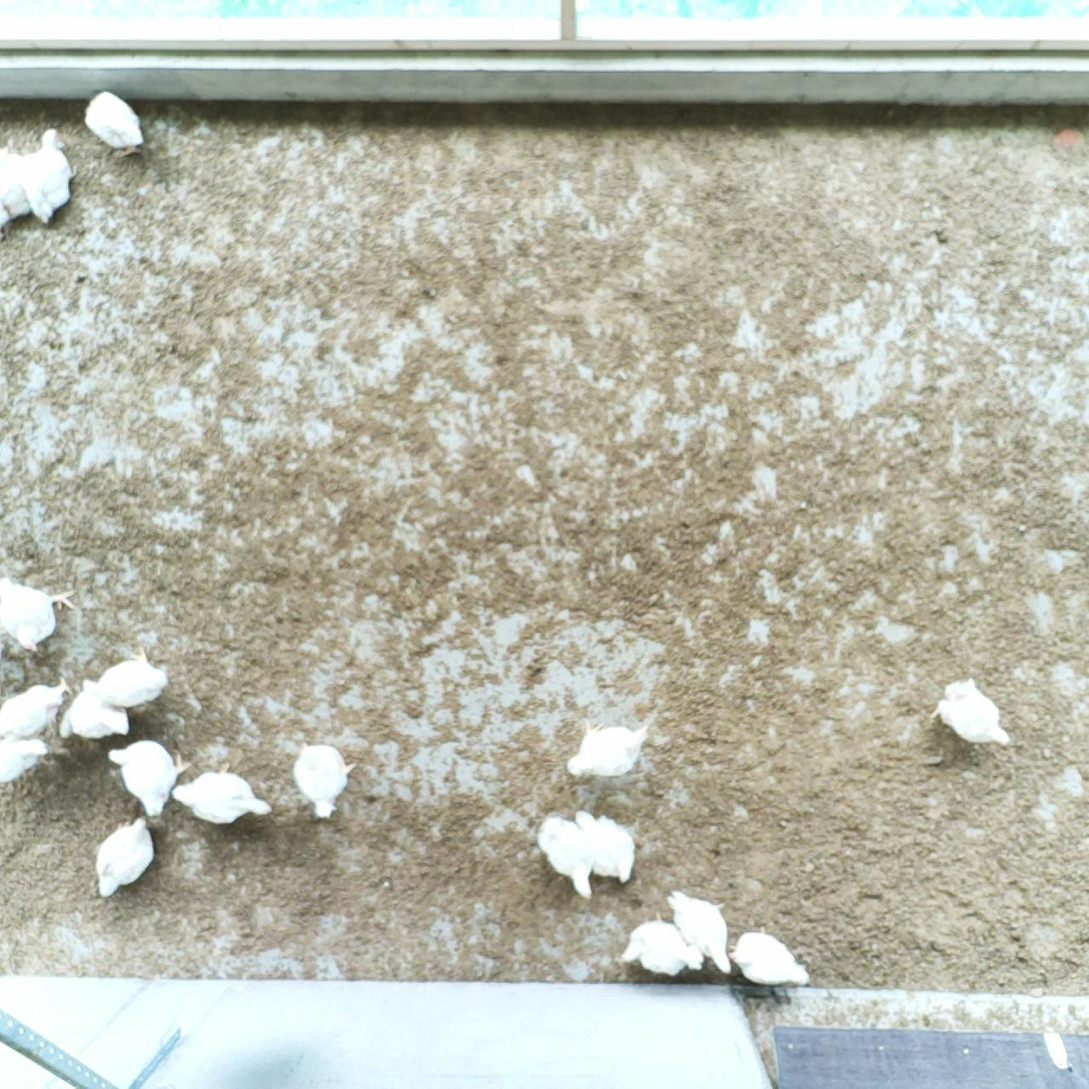chicken: (106, 737, 194, 822), (168, 758, 274, 828), (0, 572, 78, 658), (661, 888, 735, 975), (18, 126, 77, 227), (726, 921, 814, 986), (933, 678, 1013, 749), (617, 912, 708, 974), (293, 740, 360, 823), (90, 815, 155, 900), (564, 717, 650, 781), (88, 649, 170, 716), (52, 675, 131, 743), (569, 811, 639, 887), (533, 815, 595, 899), (2, 673, 72, 739), (80, 88, 145, 157), (0, 137, 36, 234), (0, 728, 49, 788)
